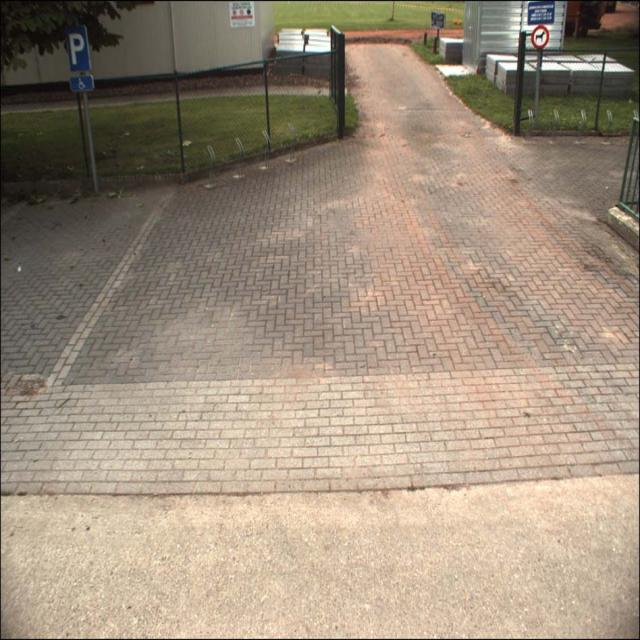park: (64, 24, 91, 72)
